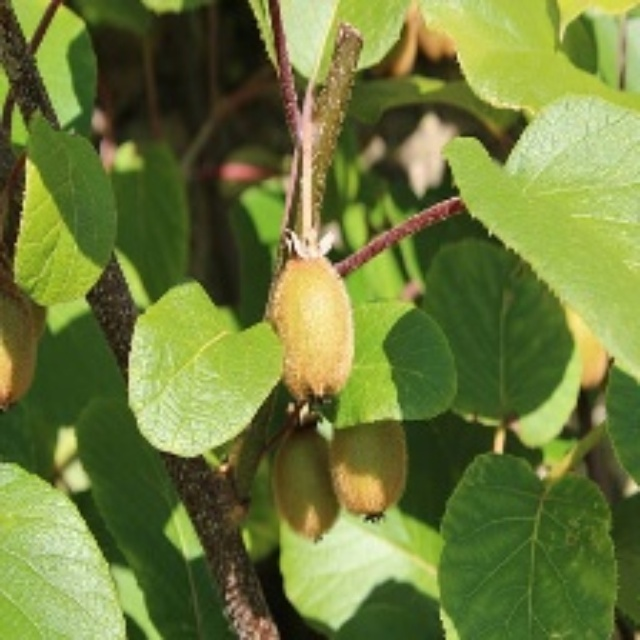kiwi: (270, 429, 427, 534), (270, 254, 353, 402)
